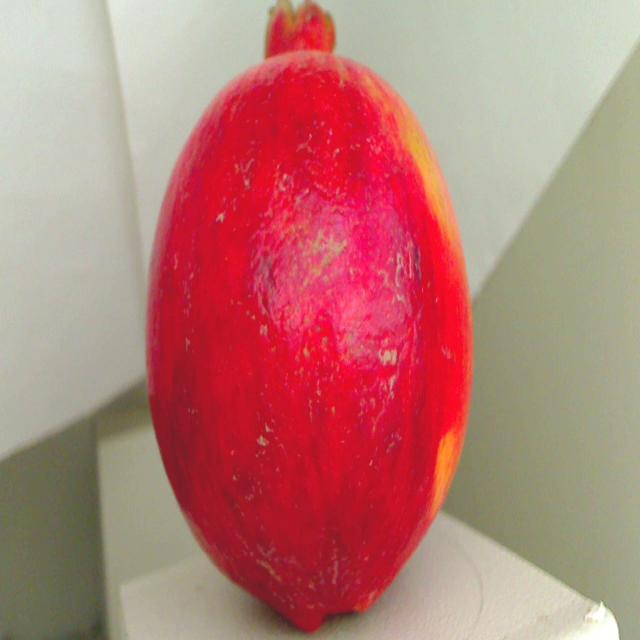pomegranate: (133, 0, 486, 637)
